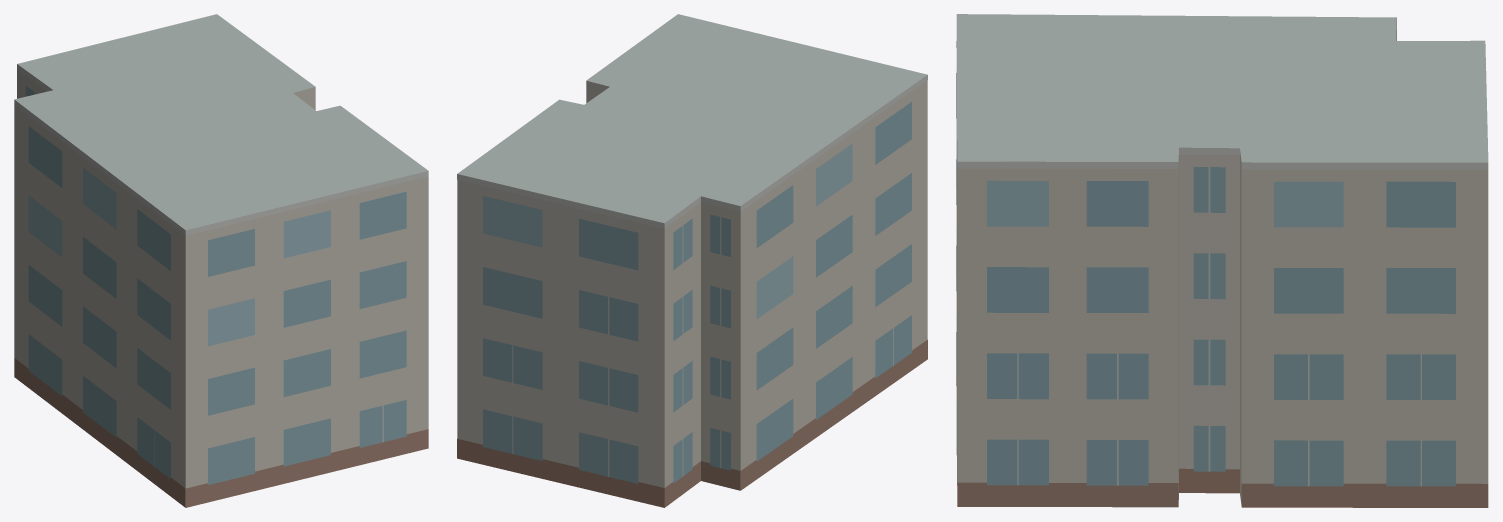
The model's file is survey-upis-32624435.glb.
3 views of the same model, side by side, from view 1: azimuth 30°, elevation 25°; view 2: azimuth 150°, elevation 25°; view 3: azimuth 270°, elevation 25° (orthographic). The views are drawn at different scales.
Visible parts, largest first — view 1: survey-upis-32624435.tmp; view 2: survey-upis-32624435.tmp; view 3: survey-upis-32624435.tmp.
Part boxes in pixels (box(x1,y1,x2,y2)): survey-upis-32624435.tmp: box(14, 14, 428, 507); survey-upis-32624435.tmp: box(457, 14, 927, 507); survey-upis-32624435.tmp: box(956, 14, 1488, 507).
Size of the model in its own units: 11.29 by 12.2 by 17.05.
